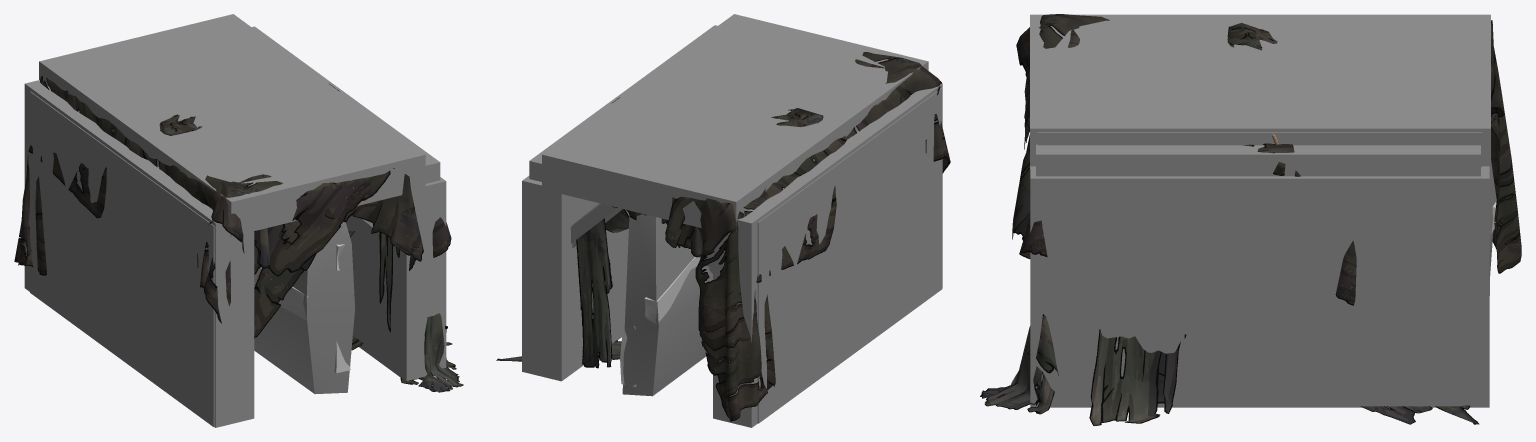
Rendered from WoodSupport_01.fbx.
3 renders of one model, left to right at view 1: azimuth 30°, elevation 25°; view 2: azimuth 150°, elevation 25°; view 3: azimuth 270°, elevation 25°, orthographic. The views are drawn at different scales.
Visible parts, largest first — view 1: Support_B1_COL, Support_B2_COL, Support_D1_COL, B1_RagJ3, B1_RagJ4, B2_RagJ3, B1_RagJ2, B1_RagA1, B2_RagJ2, Support_D1, B2_RagD1; view 2: Support_B1_COL, Support_B2_COL, B1_RagJ2, Support_D1_COL, B1_RagE1, B1_RagJ3, B2_RagJ2, Support_D1, B2_RagJ3; view 3: Support_B1_COL, Support_B2_COL, B2_RagK2, B1_RagJ2, B1_RagA1, B1_RagJ4, B1_RagJ3, B1_RagC1, B1_RagJ1, B2_RagJ2, B2_RagJ1.
Part boxes in pixels (<box>): Support_B1_COL: <box>24,14,446,427</box>; Support_B2_COL: <box>30,26,440,427</box>; Support_D1_COL: <box>254,222,354,394</box>; B1_RagJ3: <box>66,94,394,276</box>; B1_RagJ4: <box>238,174,451,270</box>; B2_RagJ3: <box>197,90,339,338</box>; B1_RagJ2: <box>14,76,68,275</box>; B1_RagA1: <box>400,313,463,392</box>; B2_RagJ2: <box>28,83,338,218</box>; Support_D1: <box>254,244,350,372</box>; B2_RagD1: <box>373,225,399,332</box>; Support_B1_COL: <box>522,14,942,427</box>; Support_B2_COL: <box>529,25,942,423</box>; B1_RagJ2: <box>665,188,775,421</box>; Support_D1_COL: <box>622,214,712,396</box>; B1_RagE1: <box>576,209,629,368</box>; B1_RagJ3: <box>765,52,942,198</box>; B2_RagJ2: <box>611,97,836,282</box>; Support_D1: <box>620,257,700,386</box>; B2_RagJ3: <box>619,97,950,173</box>; Support_B1_COL: <box>1030,14,1490,407</box>; Support_B2_COL: <box>1036,132,1481,176</box>; B2_RagK2: <box>1089,329,1186,425</box>; B1_RagJ2: <box>1491,20,1521,273</box>; B1_RagA1: <box>980,314,1058,414</box>; B1_RagJ4: <box>1012,29,1079,258</box>; B1_RagJ3: <box>1016,14,1109,149</box>; B1_RagC1: <box>1360,405,1479,424</box>; B1_RagJ1: <box>1335,240,1356,305</box>; B2_RagJ2: <box>1243,29,1300,176</box>; B2_RagJ1: <box>1227,25,1276,50</box>.
Bounding box in the file's own units: 4.59 × 3.65 × 6.53.
